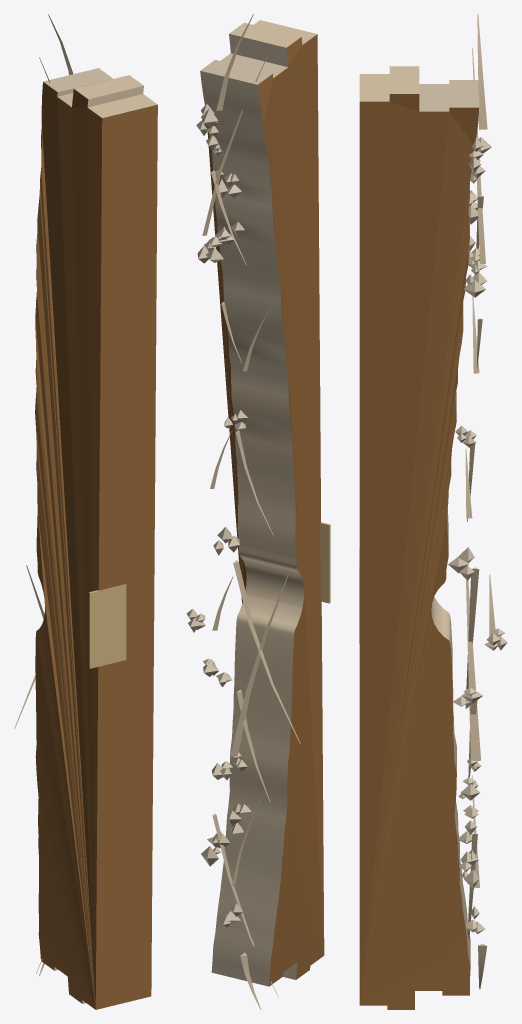
Rendered from Kit_DoorLeafBreak_Veneer_DA_Deb2.fbx.
3 views of the same model, side by side, from view 1: azimuth 30°, elevation 25°; view 2: azimuth 150°, elevation 25°; view 3: azimuth 270°, elevation 25° (orthographic). The views are drawn at different scales.
Visible parts, largest first — view 1: deb_strip; view 2: deb_strip, deb_spl_03, deb_spl_06, deb_spl_11, deb_spl_02, deb_spl_13, deb_crm_10, deb_crm_07, deb_crm_03, deb_crm_09, deb_spl_04; view 3: deb_strip, deb_spl_03, deb_spl_13, deb_spl_06, deb_spl_11, deb_crm_07, deb_crm_09, deb_crm_04.
Part boxes in pixels (x1=…): deb_strip: x1=35, y1=68, x2=157, y2=1009; deb_strip: x1=200, y1=20, x2=330, y2=986; deb_spl_03: x1=230, y1=574, x2=288, y2=756; deb_spl_06: x1=233, y1=560, x2=300, y2=744; deb_spl_11: x1=202, y1=55, x2=267, y2=235; deb_spl_02: x1=212, y1=813, x2=278, y2=997; deb_spl_13: x1=216, y1=14, x2=253, y2=110; deb_crm_10: x1=215, y1=170, x2=241, y2=198; deb_crm_07: x1=213, y1=527, x2=239, y2=555; deb_crm_03: x1=201, y1=104, x2=218, y2=136; deb_crm_09: x1=201, y1=831, x2=228, y2=866; deb_spl_04: x1=236, y1=689, x2=270, y2=801; deb_strip: x1=359, y1=66, x2=479, y2=1009; deb_spl_03: x1=466, y1=579, x2=480, y2=760; deb_spl_13: x1=477, y1=14, x2=487, y2=129; deb_spl_06: x1=465, y1=567, x2=479, y2=708; deb_spl_11: x1=472, y1=47, x2=485, y2=263; deb_crm_07: x1=448, y1=547, x2=474, y2=580; deb_crm_09: x1=459, y1=850, x2=478, y2=889; deb_crm_04: x1=463, y1=265, x2=486, y2=297.
Size of the model in its own units: 0.0771 by 0.7252 by 0.0995.
